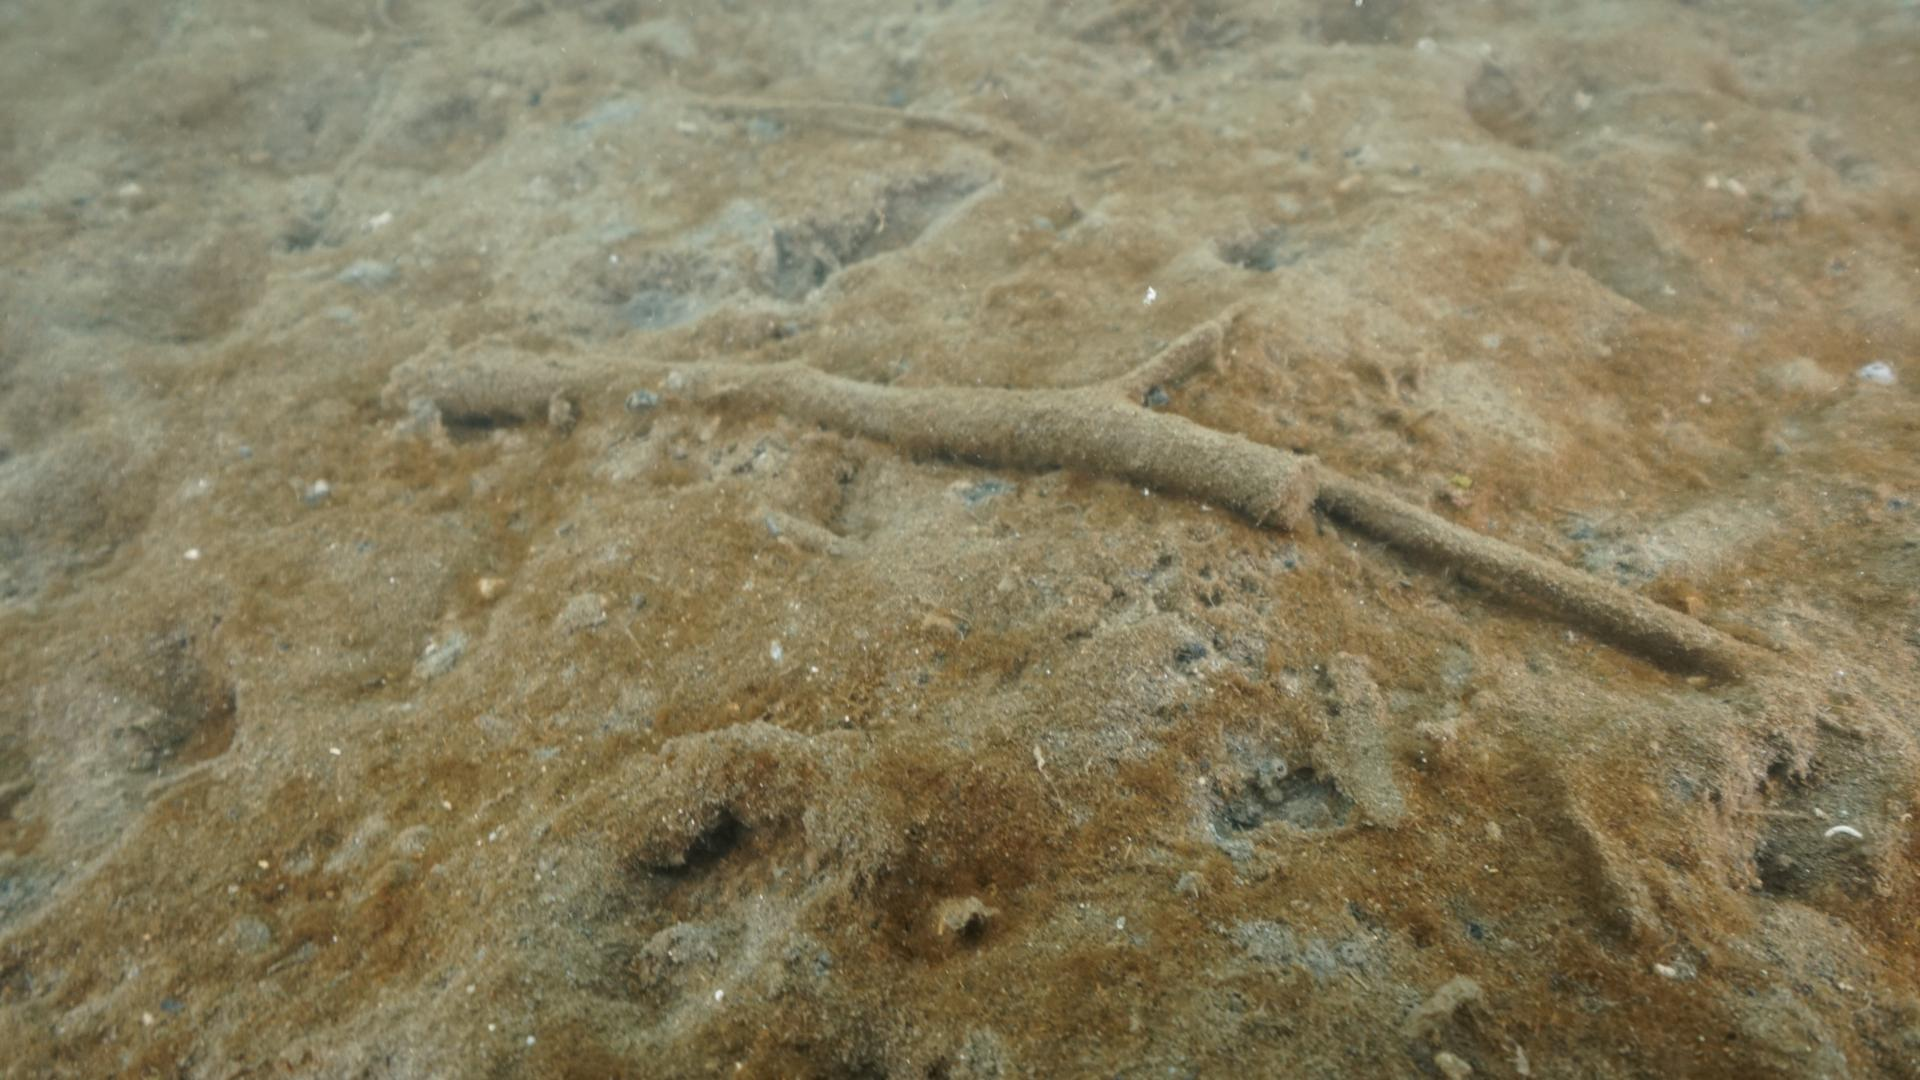wood: (433, 298, 1782, 680)
